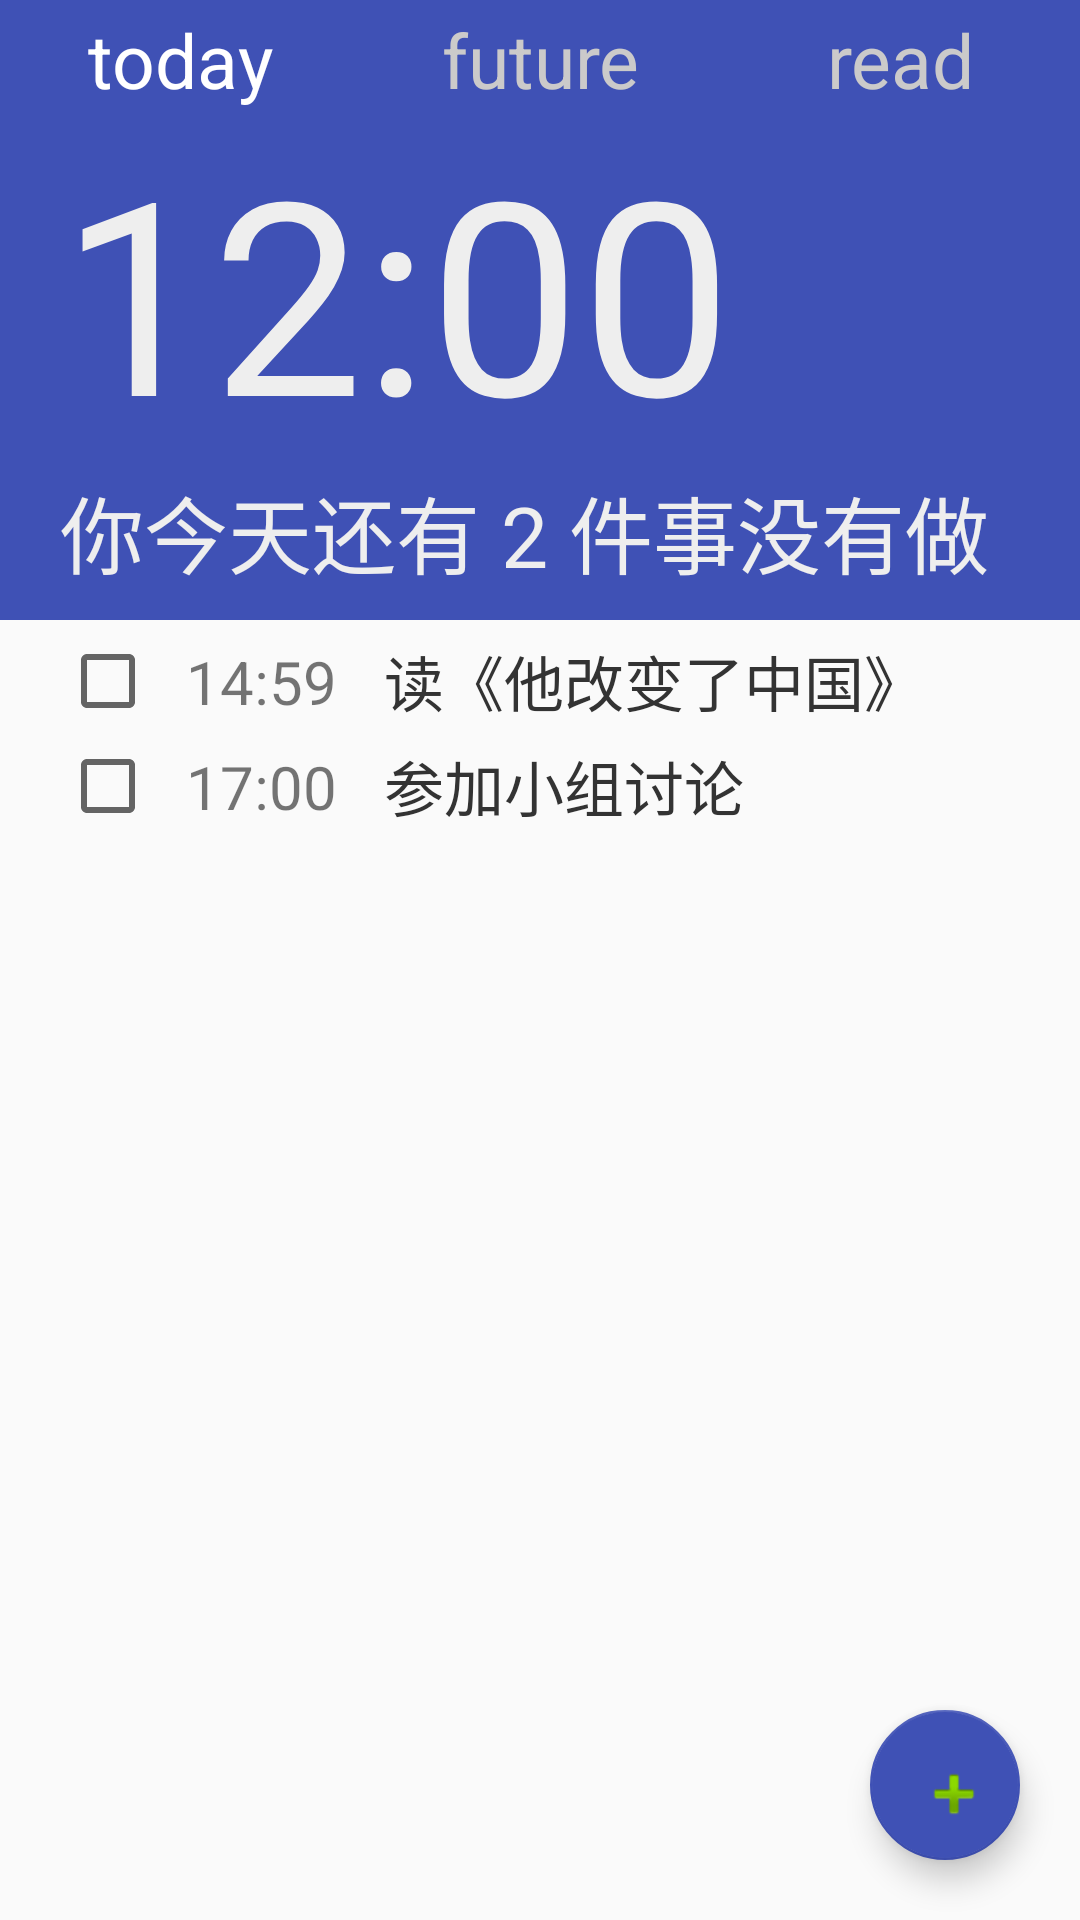

Icon bounding boxes for this 1080×1920 phone screenshot, format (x1=x1, y1=y1, x2=x2, y2=y2):
add: (x1=870, y1=1710, x2=1020, y2=1860)
